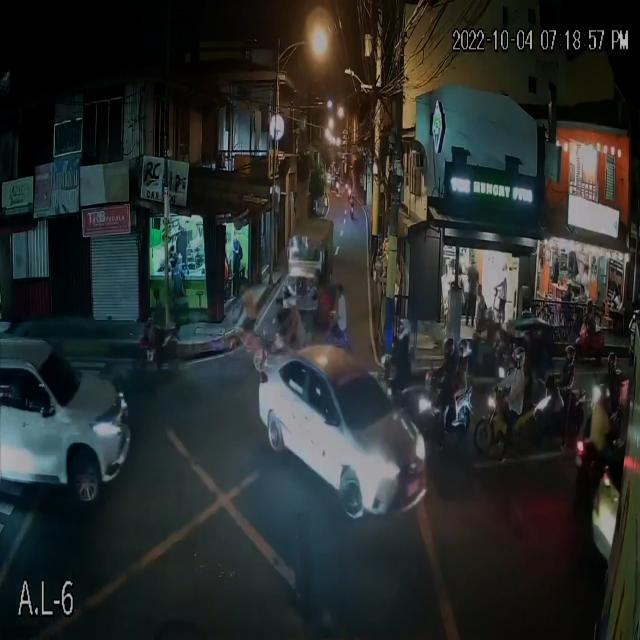Full-Faced: (396, 317, 414, 342), (510, 346, 526, 370), (602, 349, 617, 373), (457, 337, 471, 362), (564, 340, 576, 368), (442, 338, 454, 358)
